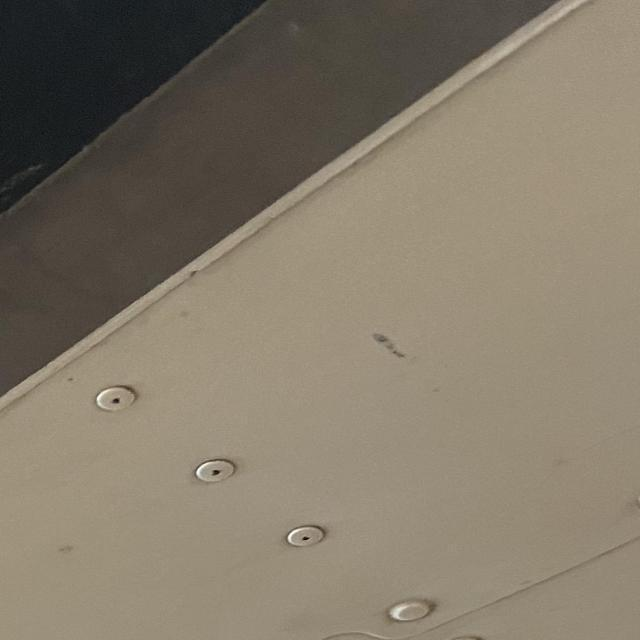Paint-off: (371, 329, 410, 357)
